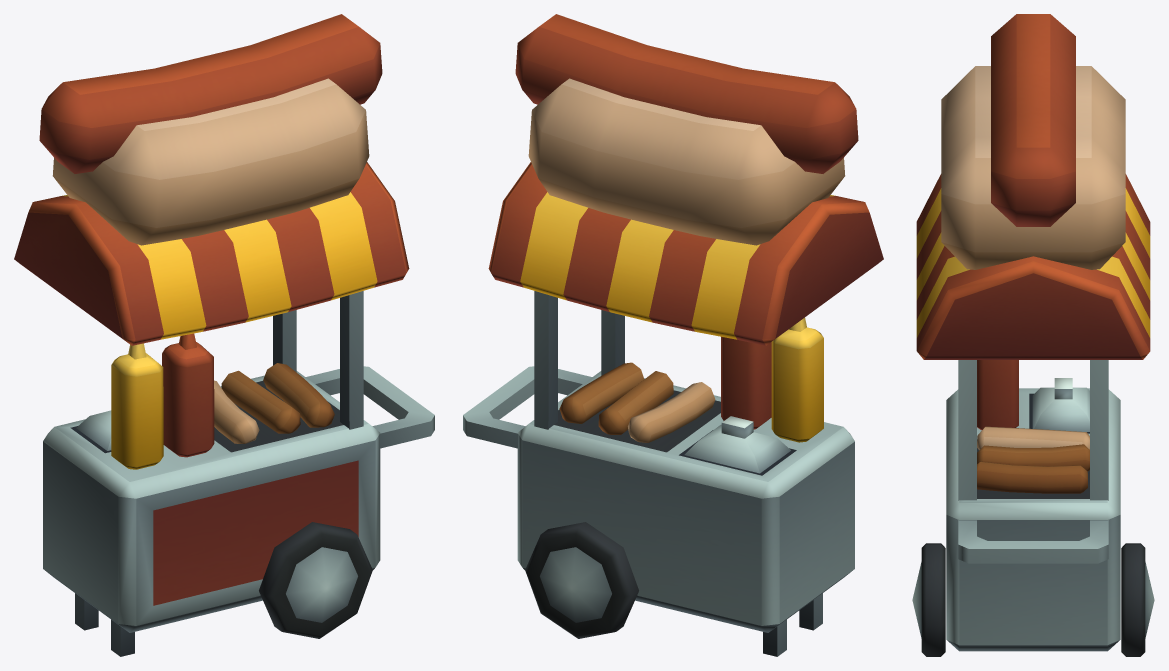
Rendered from hotdog_stand.fbx.
The picture shows the model from 3 angles, left to right: view 1: azimuth 30°, elevation 25°; view 2: azimuth 150°, elevation 25°; view 3: azimuth 270°, elevation 25°; orthographic projection.
Parts seen in each view (by area): view 1: hotdog_stand; view 2: hotdog_stand; view 3: hotdog_stand.
Boxes of the visible parts, x1,y1,x2,y2 form: hotdog_stand: (14,14,434,656); hotdog_stand: (463,14,883,656); hotdog_stand: (912,14,1154,656).
Bounding box in the file's own units: 166 × 250 × 100.
